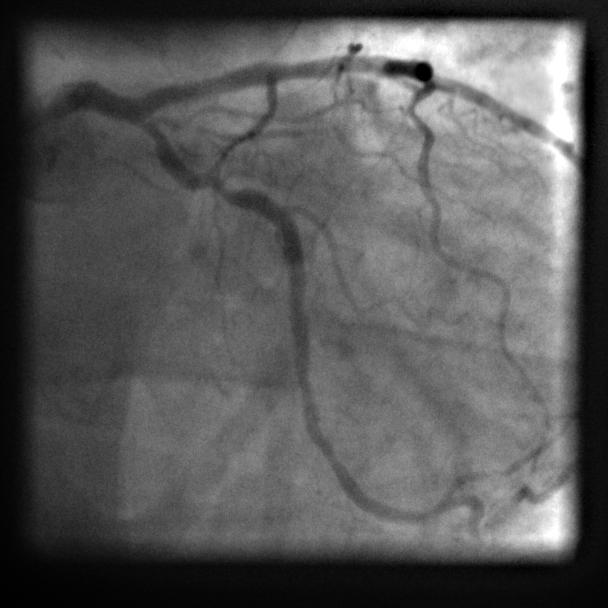Stenosis: (204, 172, 229, 193)
